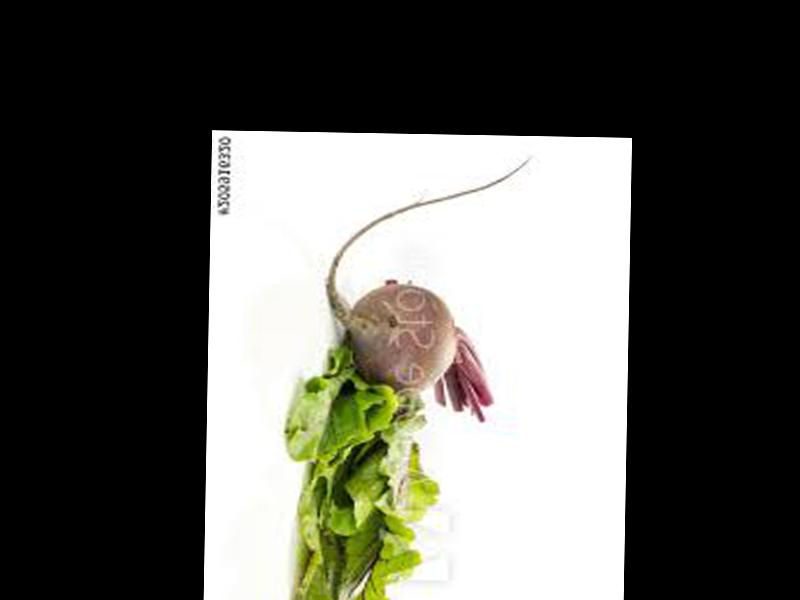Beet: (323, 150, 532, 426)
